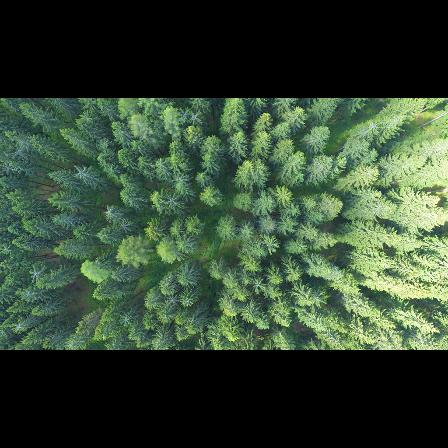Sick: (161, 191, 182, 210), (28, 262, 46, 282), (73, 164, 92, 181), (250, 275, 267, 294), (10, 318, 29, 335), (117, 311, 136, 327), (164, 291, 180, 309), (171, 171, 187, 187), (102, 205, 116, 220), (177, 105, 191, 120), (189, 110, 203, 123)
